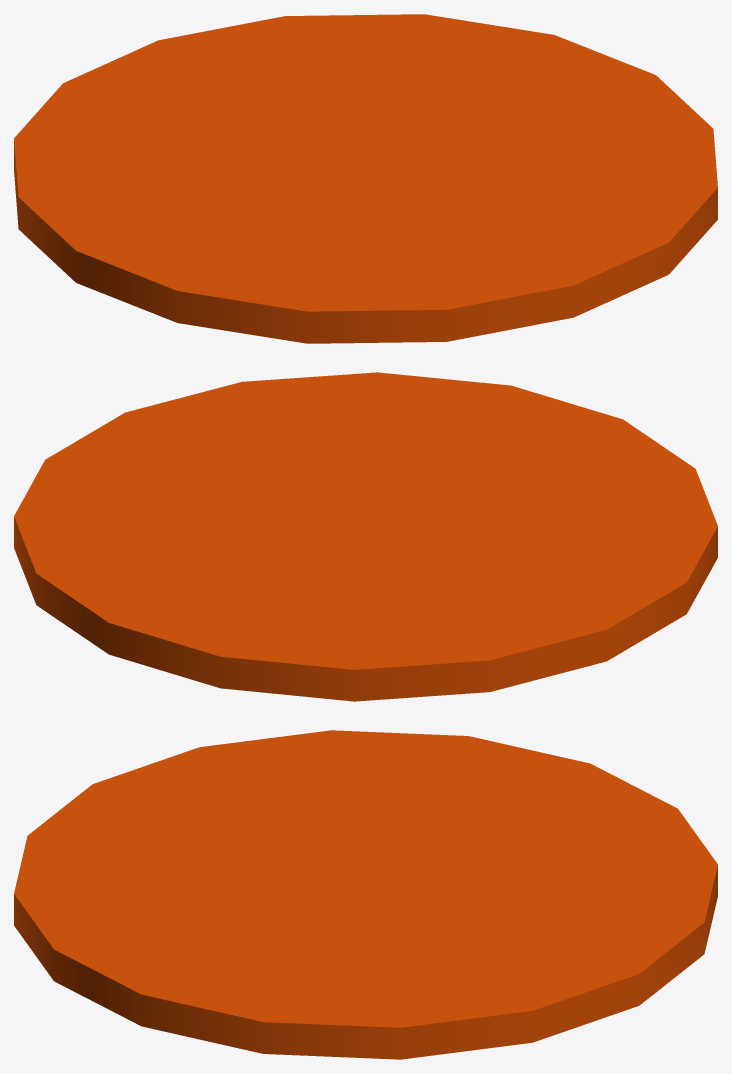
The model's file is 9_peperoni.fbx.
The picture shows the model from 3 angles, top to bottom: view 1: azimuth 30°, elevation 25°; view 2: azimuth 150°, elevation 25°; view 3: azimuth 270°, elevation 25°; orthographic projection.
Visible parts, largest first — view 1: peperoni; view 2: peperoni; view 3: peperoni.
Part boxes in pixels (x1,y1,x2,y2): peperoni: (14,14,717,343); peperoni: (14,372,717,701); peperoni: (14,730,717,1059).
Size of the model in its own units: 129 by 6.44 by 129.
